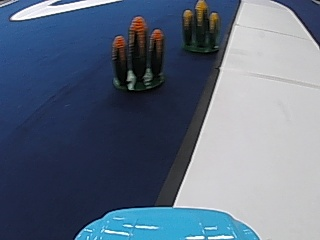corn: (110, 17, 167, 93), (180, 0, 222, 52)
